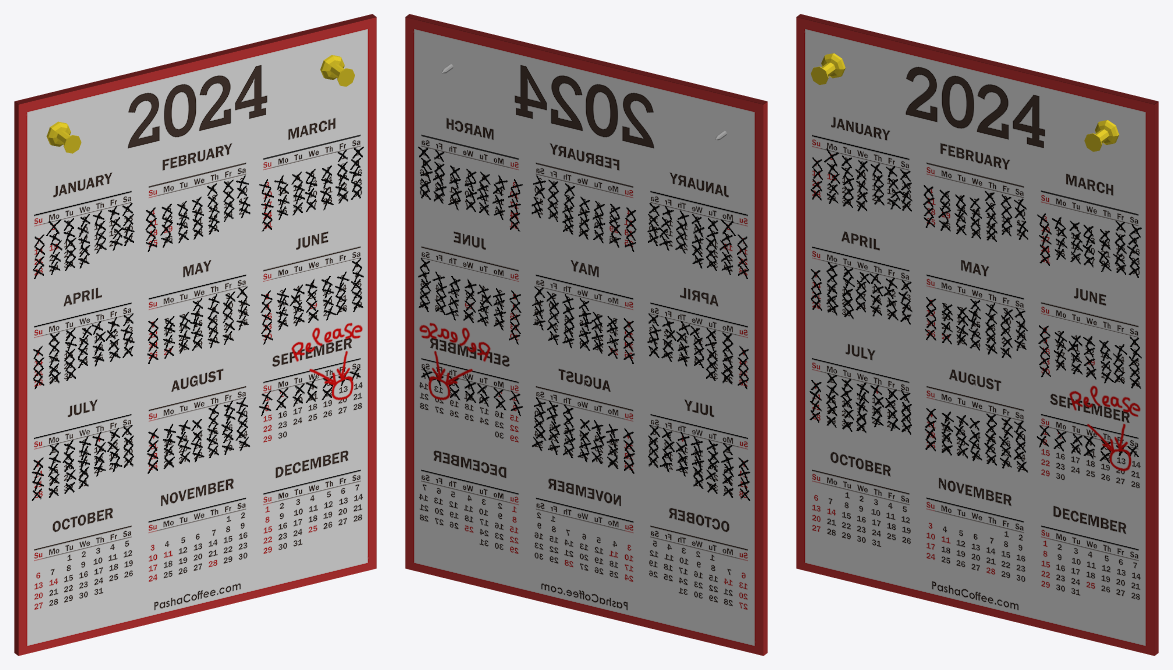
Rendered from Calendrier.fbx.
3 renders of one model, left to right at view 1: azimuth 30°, elevation 25°; view 2: azimuth 150°, elevation 25°; view 3: azimuth 330°, elevation 25°, orthographic.
Visible parts, largest first — view 1: Calendrier; view 2: Calendrier; view 3: Calendrier.
Boxes of the visible parts, bbox=[...] form: Calendrier: bbox=[14, 14, 376, 655]; Calendrier: bbox=[405, 14, 767, 655]; Calendrier: bbox=[796, 14, 1158, 655].
Bounding box in the file's own units: 56.32 × 82.88 × 7.86.
